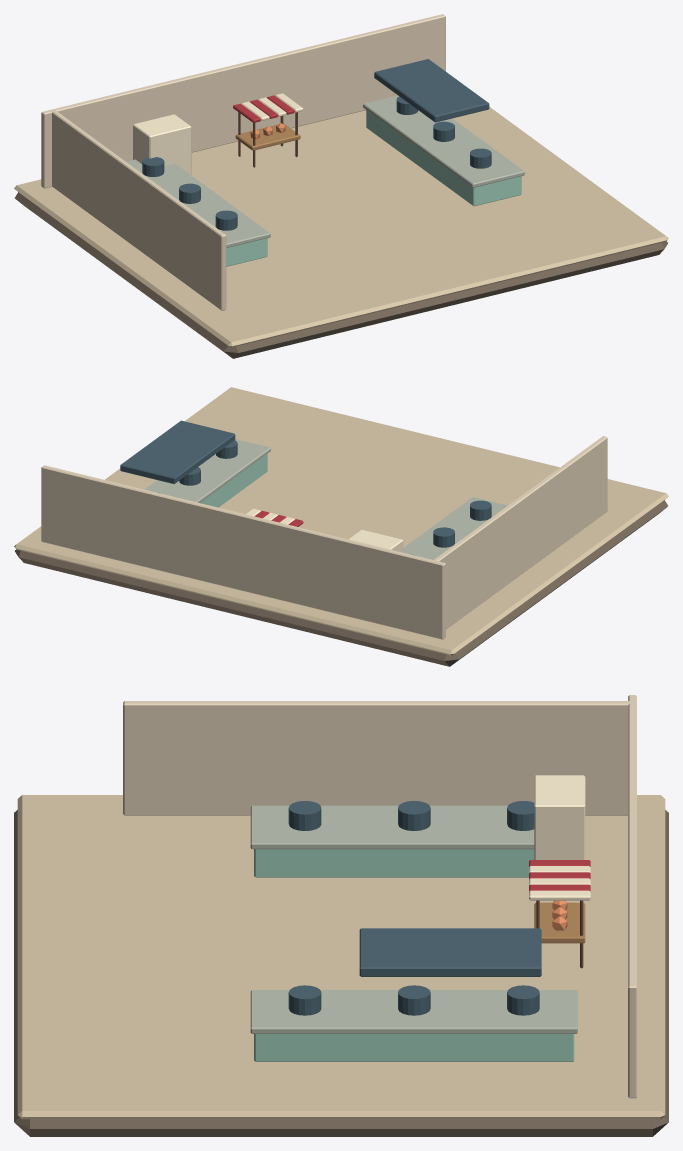
Rendered from world-kitchen.glb.
The picture shows the model from 3 angles, top to bottom: view 1: azimuth 30°, elevation 25°; view 2: azimuth 150°, elevation 25°; view 3: azimuth 270°, elevation 25°; orthographic projection. The views are drawn at different scales.
Parts seen in each view (by area): view 1: terrain-top, rear-wall, side-wall, terrain-stratum, worktop.001, extractor, cabinet.001, worktop, cold-storage, counter.001, cabinet; view 2: terrain-top, rear-wall, side-wall, terrain-stratum, extractor, worktop.001, worktop, cabinet.001, cold-storage; view 3: terrain-top, side-wall, terrain-stratum, worktop.001, worktop, cabinet.001, extractor, cabinet, cold-storage, rear-wall, counter.001, cooking-pot.003 (+6 smaller).
Part boxes in pixels (x1=…): terrain-top: x1=14, y1=107, x2=668, y2=347; rear-wall: x1=41, y1=14, x2=445, y2=188; side-wall: x1=52, y1=110, x2=226, y2=310; terrain-stratum: x1=14, y1=192, x2=667, y2=358; worktop.001: x1=363, y1=95, x2=524, y2=187; extractor: x1=374, y1=59, x2=489, y2=122; cabinet.001: x1=366, y1=110, x2=521, y2=206; worktop: x1=126, y1=159, x2=270, y2=247; cold-storage: x1=133, y1=114, x2=191, y2=175; counter.001: x1=235, y1=123, x2=300, y2=150; cabinet: x1=226, y1=238, x2=267, y2=266; terrain-top: x1=14, y1=387, x2=668, y2=655; rear-wall: x1=41, y1=465, x2=445, y2=639; side-wall: x1=433, y1=436, x2=607, y2=629; terrain-stratum: x1=15, y1=500, x2=667, y2=666; extractor: x1=120, y1=420, x2=235, y2=483; worktop.001: x1=144, y1=439, x2=270, y2=502; worktop: x1=403, y1=497, x2=507, y2=559; cabinet.001: x1=200, y1=454, x2=267, y2=507; cold-storage: x1=349, y1=529, x2=403, y2=552; terrain-top: x1=17, y1=795, x2=665, y2=1119; side-wall: x1=123, y1=701, x2=630, y2=815; terrain-stratum: x1=14, y1=810, x2=668, y2=1136; worktop.001: x1=250, y1=990, x2=577, y2=1033; worktop: x1=250, y1=805, x2=534, y2=849; cabinet.001: x1=254, y1=1034, x2=574, y2=1061; extractor: x1=359, y1=928, x2=541, y2=976; cabinet: x1=254, y1=849, x2=534, y2=877; cold-storage: x1=534, y1=775, x2=585, y2=859; rear-wall: x1=628, y1=695, x2=636, y2=1098; counter.001: x1=534, y1=902, x2=585, y2=943; cooking-pot.003: x1=288, y1=985, x2=321, y2=1015.
Bounding box in the file's own units: 21 × 4.29 × 18.
